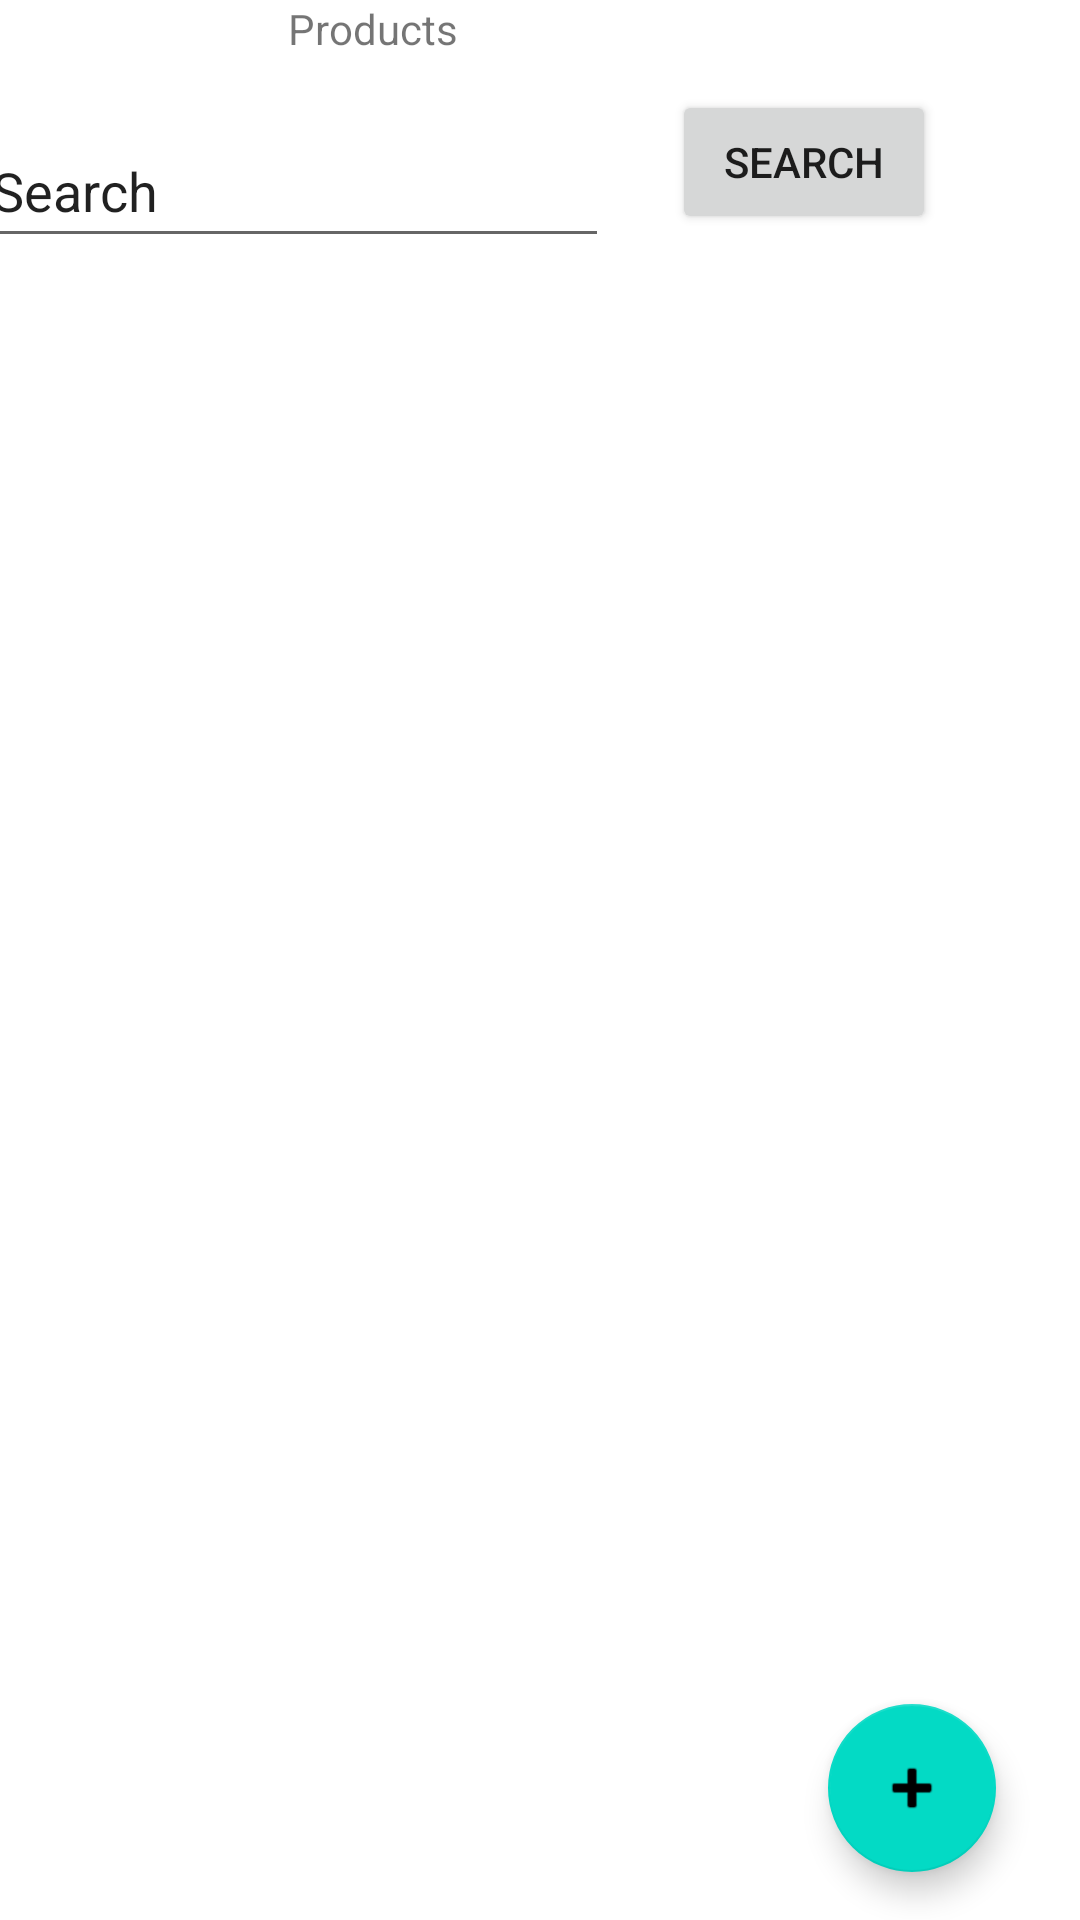

Where to tap for icons on this 1080x1920 app screen, as [x,y]:
Add Products: [912,1788]
